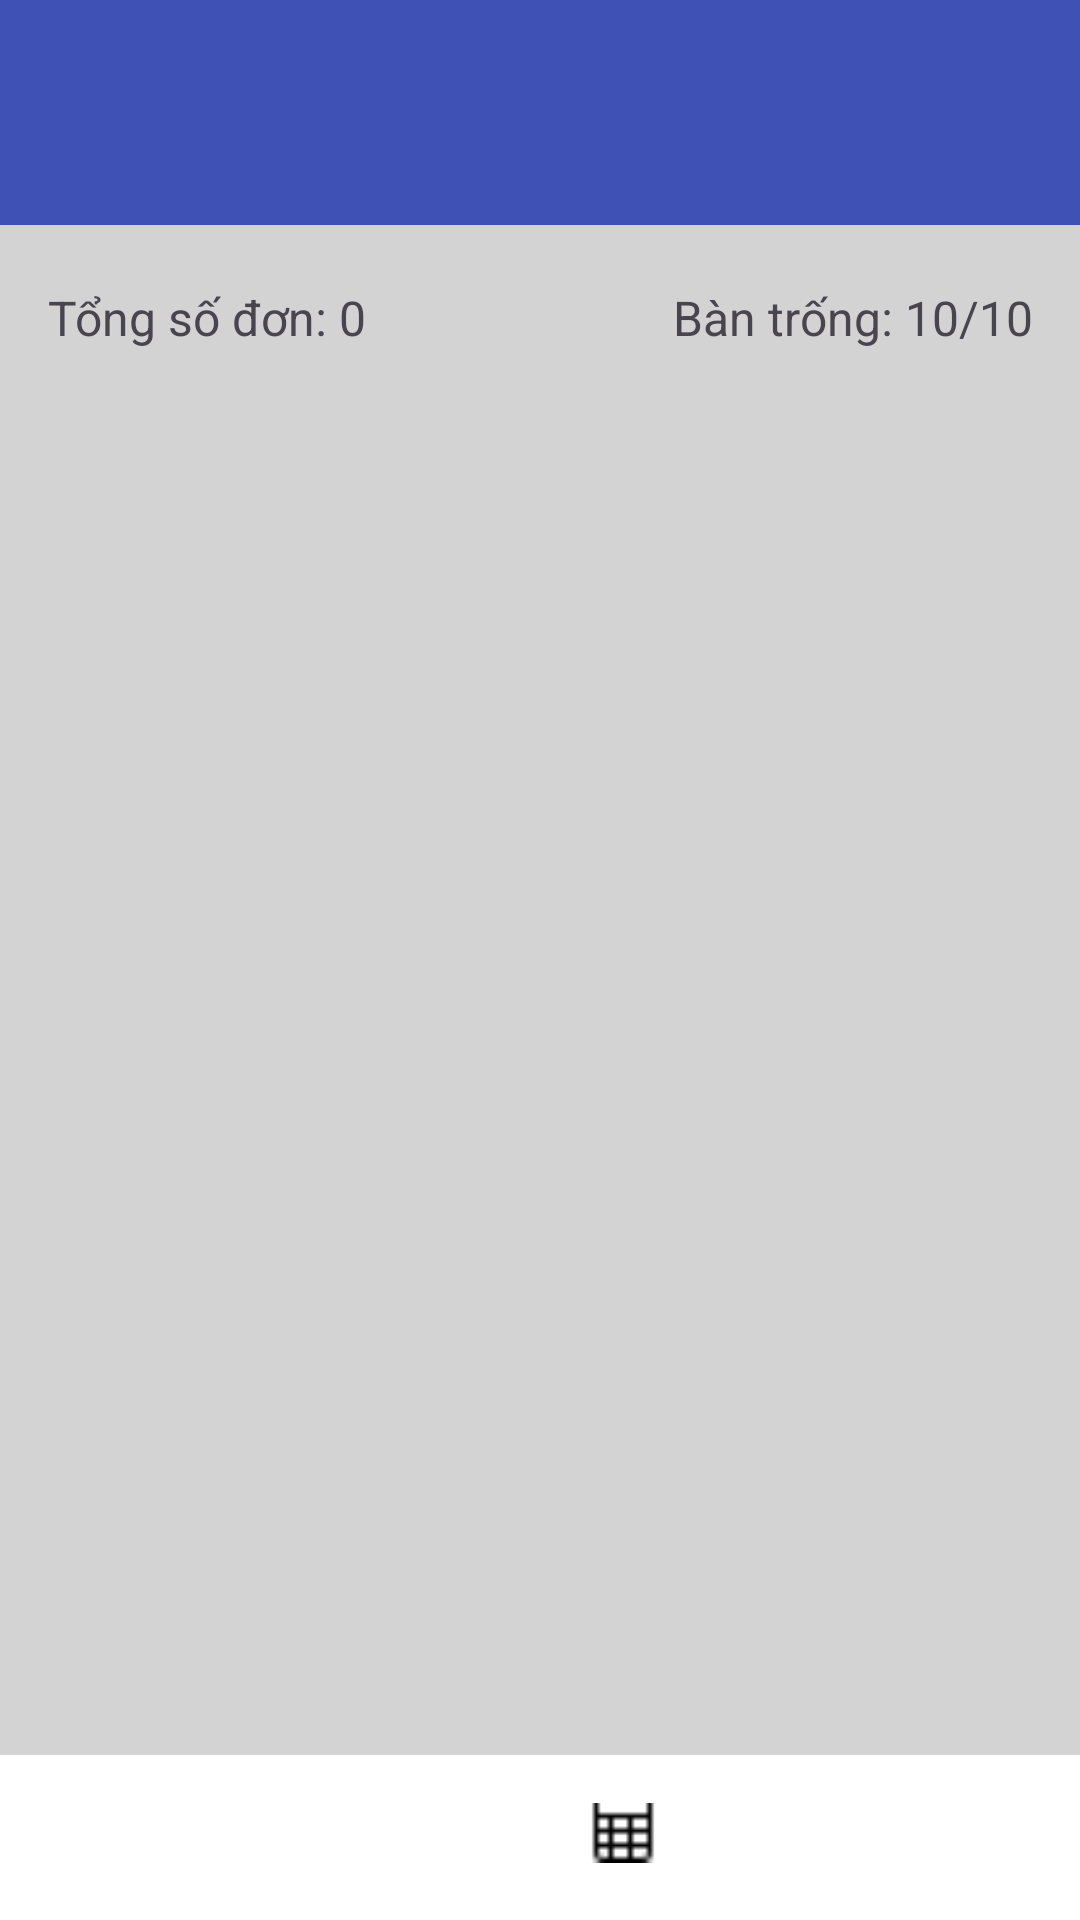

Where to tap for icons on this 1080px x 1920px app screen, as (x=x, y=y):
Tables: (x=623, y=1833)
